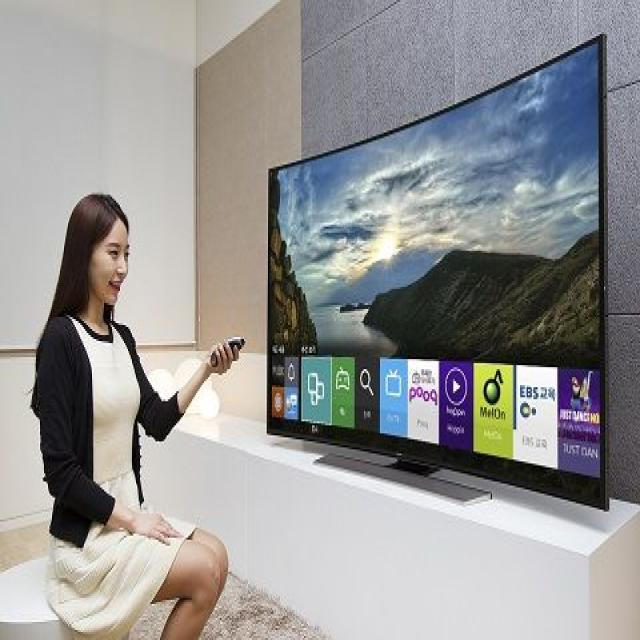tv-person: (30, 25, 609, 640)
